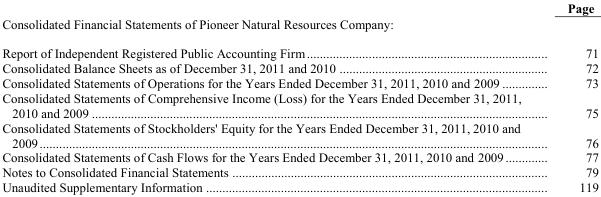table: (1, 1, 597, 193)
table column: (1, 1, 543, 193), (543, 1, 597, 193)
table column header: (1, 1, 597, 15)
table projected row header: (1, 15, 597, 38)
table row: (1, 119, 597, 149), (1, 90, 597, 119), (1, 15, 597, 38), (1, 38, 597, 60), (1, 60, 597, 75), (1, 75, 597, 90), (1, 149, 597, 164), (1, 164, 597, 179), (1, 1, 597, 15), (1, 179, 597, 193)
